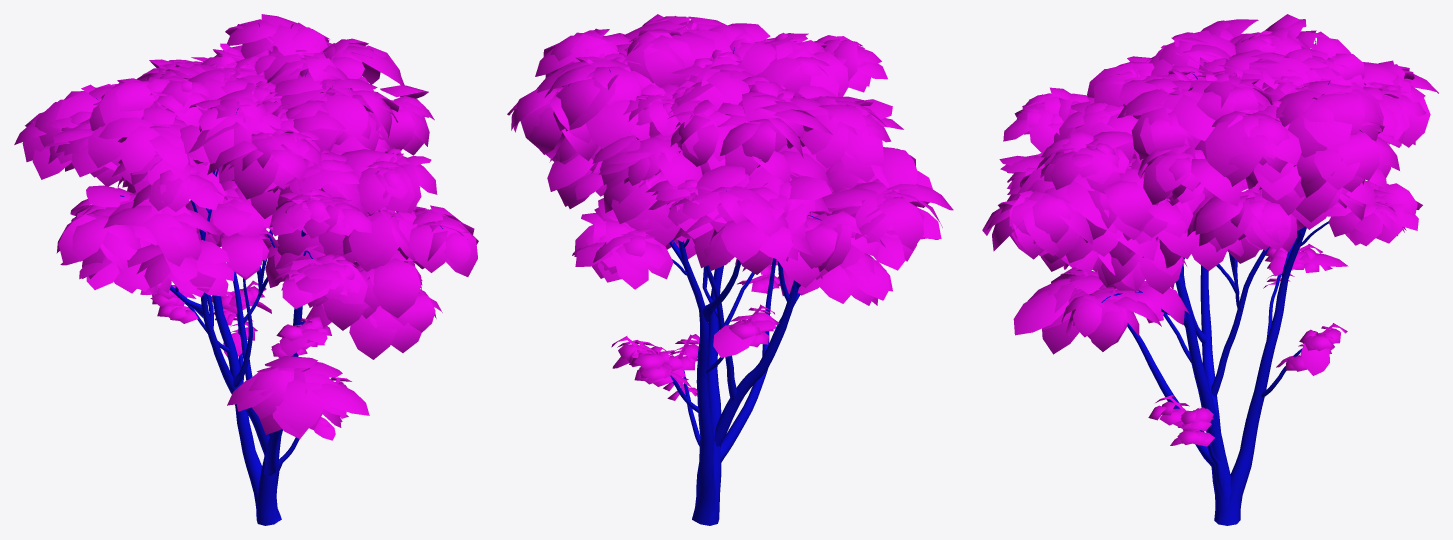
The model's file is Tree_01.fbx.
The picture shows the model from 3 angles, left to right: view 1: azimuth 30°, elevation 25°; view 2: azimuth 150°, elevation 25°; view 3: azimuth 270°, elevation 25°; orthographic projection. The views are drawn at different scales.
Parts seen in each view (by area): view 1: Tree_LOD0; view 2: Tree_LOD0; view 3: Tree_LOD0.
Boxes of the visible parts, x1,y1,x2,y2 form: Tree_LOD0: (14, 14, 478, 525); Tree_LOD0: (507, 14, 953, 525); Tree_LOD0: (982, 14, 1438, 525).
Size of what is drawn, in the model's own units: 556 by 652 by 584.
